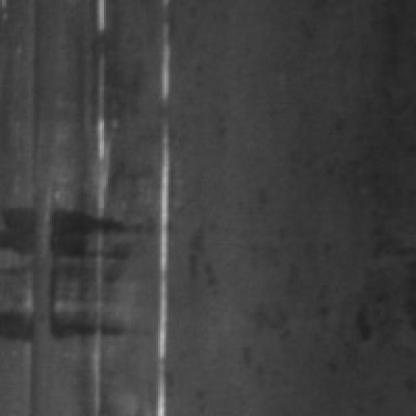inclusion: (0, 206, 108, 338), (23, 0, 50, 187)
scratches: (77, 6, 114, 381), (145, 21, 173, 412)
